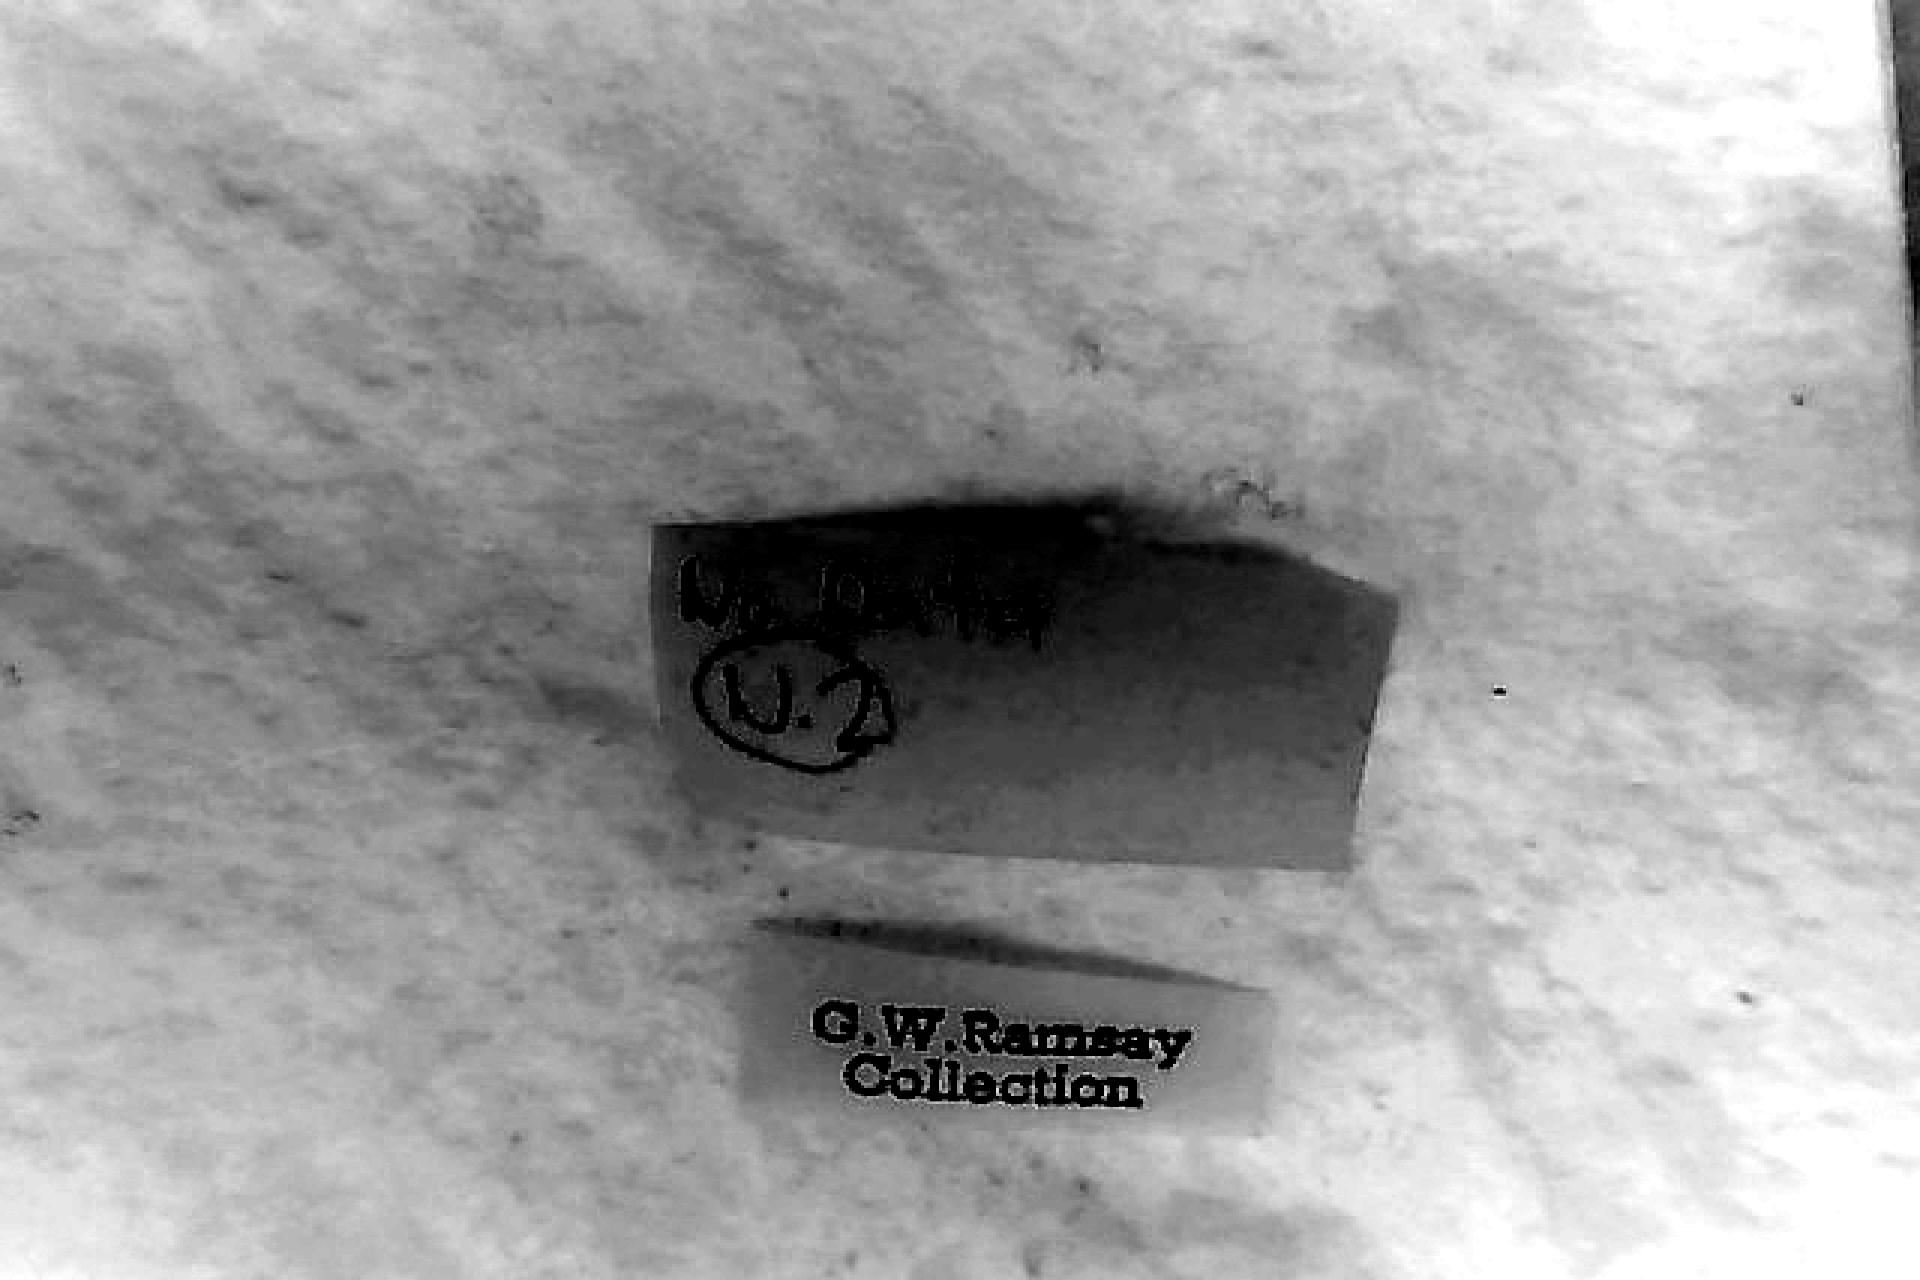hand_label: (652, 510, 1395, 865)
typed_label: (742, 923, 1275, 1135)
